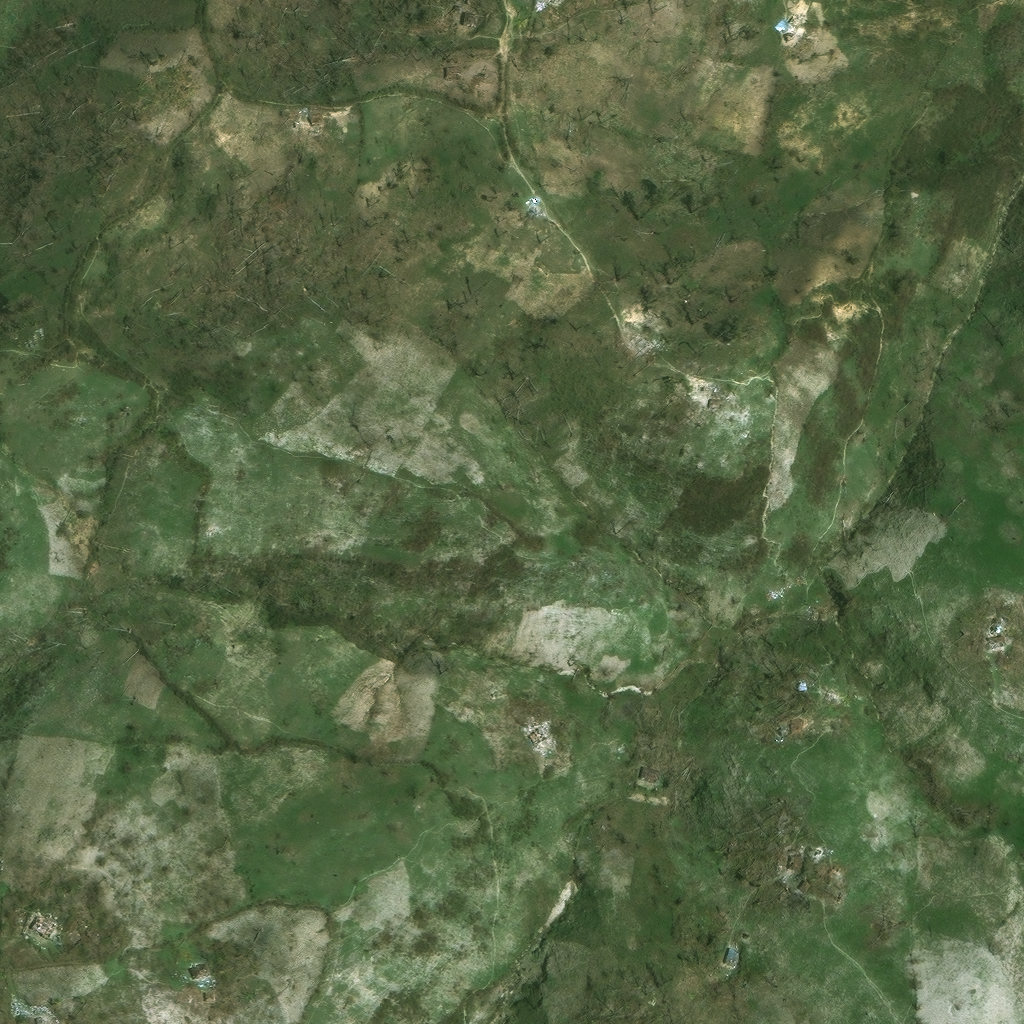destroyed: (27, 915, 53, 939), (609, 343, 630, 365), (521, 729, 542, 747), (65, 929, 79, 942), (825, 689, 837, 702), (656, 404, 668, 413), (509, 713, 520, 722), (988, 653, 999, 662), (537, 0, 552, 6), (995, 597, 1010, 602), (990, 619, 997, 627), (514, 0, 527, 2)
major_damage: (789, 719, 805, 736), (791, 849, 804, 867), (176, 974, 188, 986)
minor_damage: (654, 757, 676, 772), (748, 930, 767, 947), (980, 637, 999, 652), (440, 68, 460, 82), (301, 117, 313, 131), (472, 6, 483, 20)
